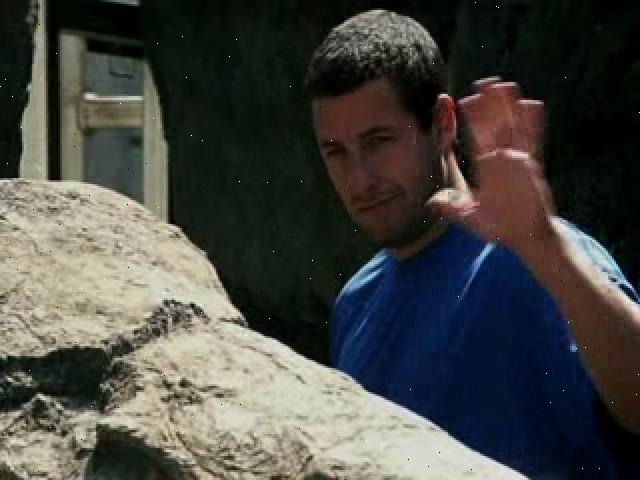L: (284, 0, 640, 480)
